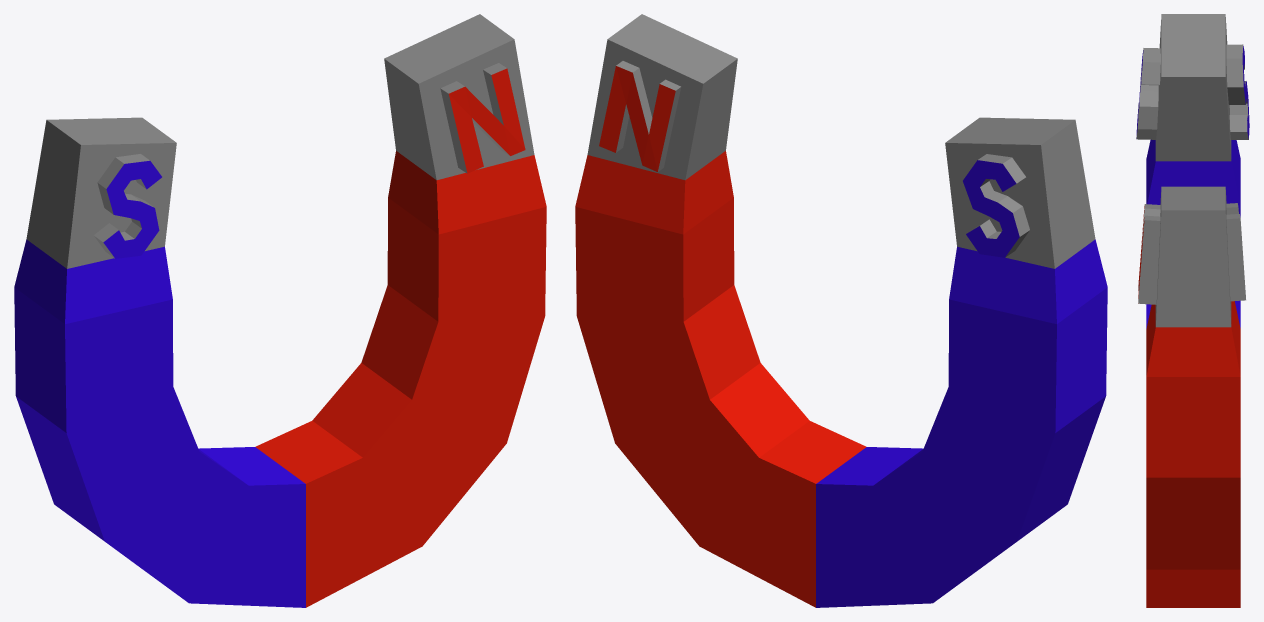
Rendered from magnet.fbx.
3 renders of one model, left to right at view 1: azimuth 30°, elevation 25°; view 2: azimuth 150°, elevation 25°; view 3: azimuth 270°, elevation 25°, orthographic. The views are drawn at different scales.
Visible parts, largest first — view 1: magnet; view 2: magnet; view 3: magnet.
Boxes of the visible parts, <box> form: magnet: <box>14,14,546,607</box>; magnet: <box>575,14,1107,607</box>; magnet: <box>1136,14,1249,607</box>.
Size of the model in its own units: 274 by 277 by 60.04.
